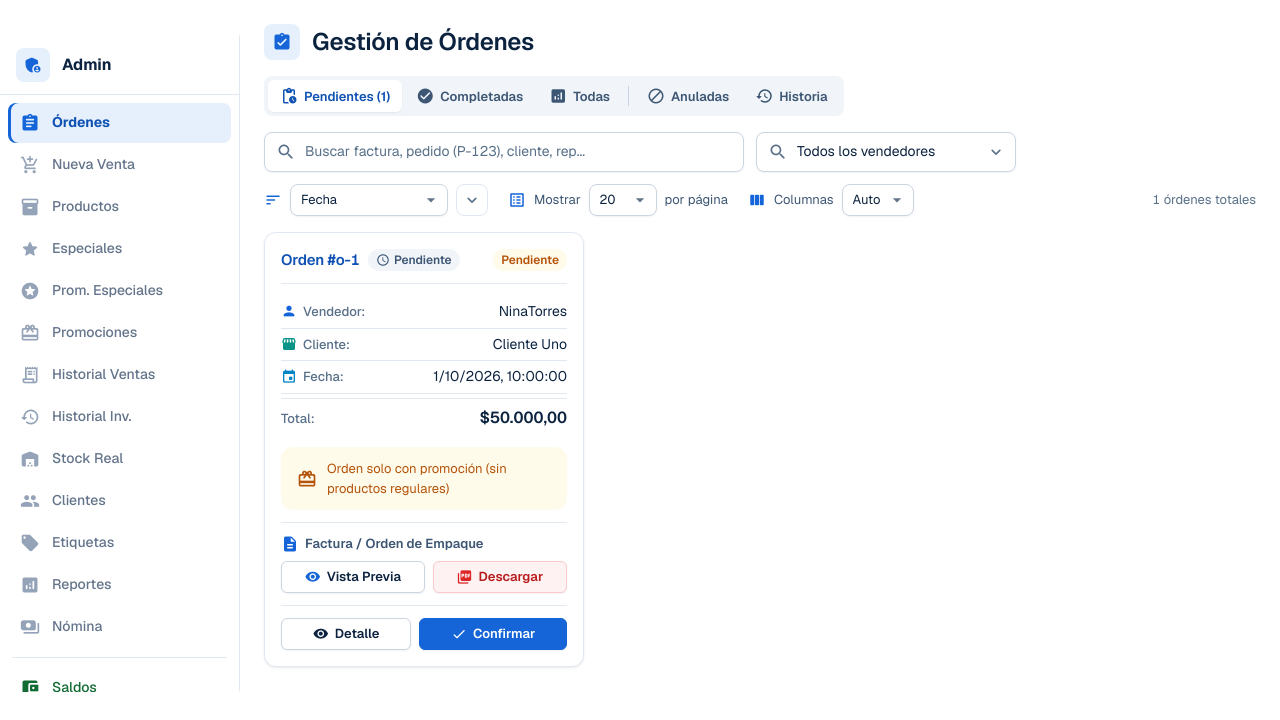
Test: filtro de vendedor de órdenes: se escribe, se elige y las órdenes se piden de esa vendedora
Check: the button "Detalle" is shown, box [281,618,411,650]
Type "yic" into the dropdown named "Filtrar por vendedor" at (886, 152), box [756,132,1016,172]
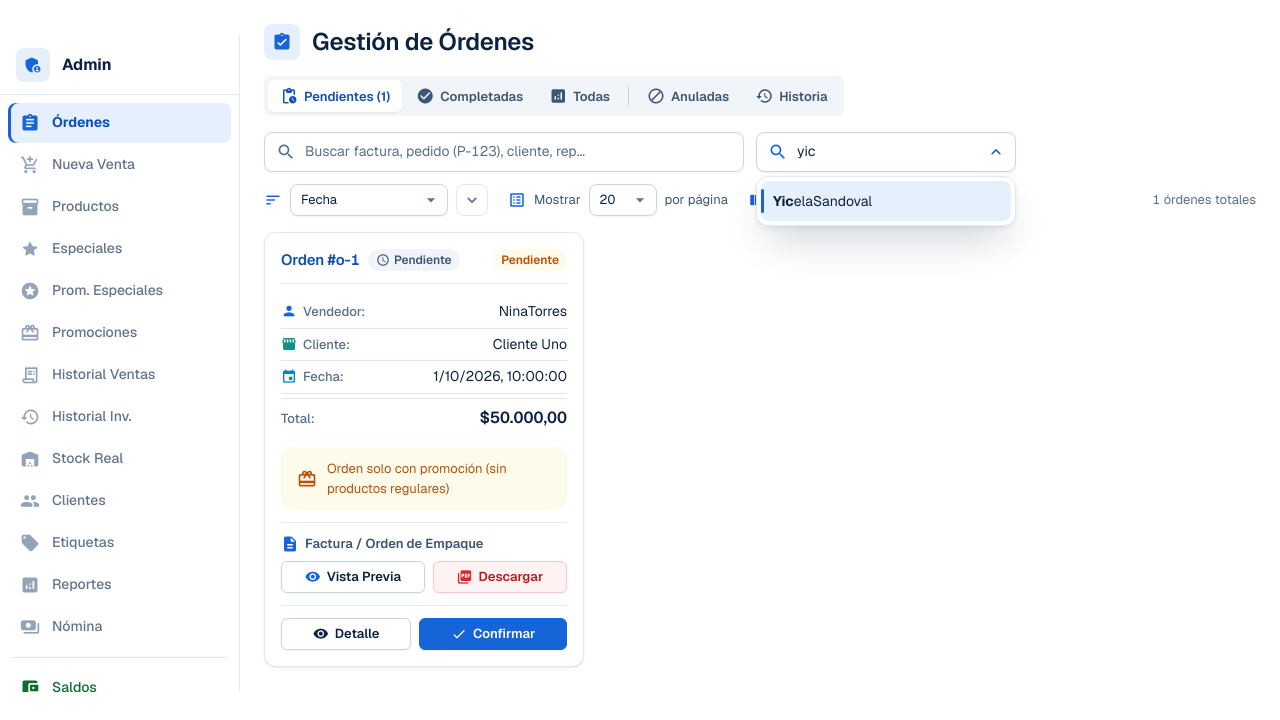
Check: the options read "YicelaSandoval", in this order
Click the option "YicelaSandoval" at (886, 201), box [761,181,1011,221]
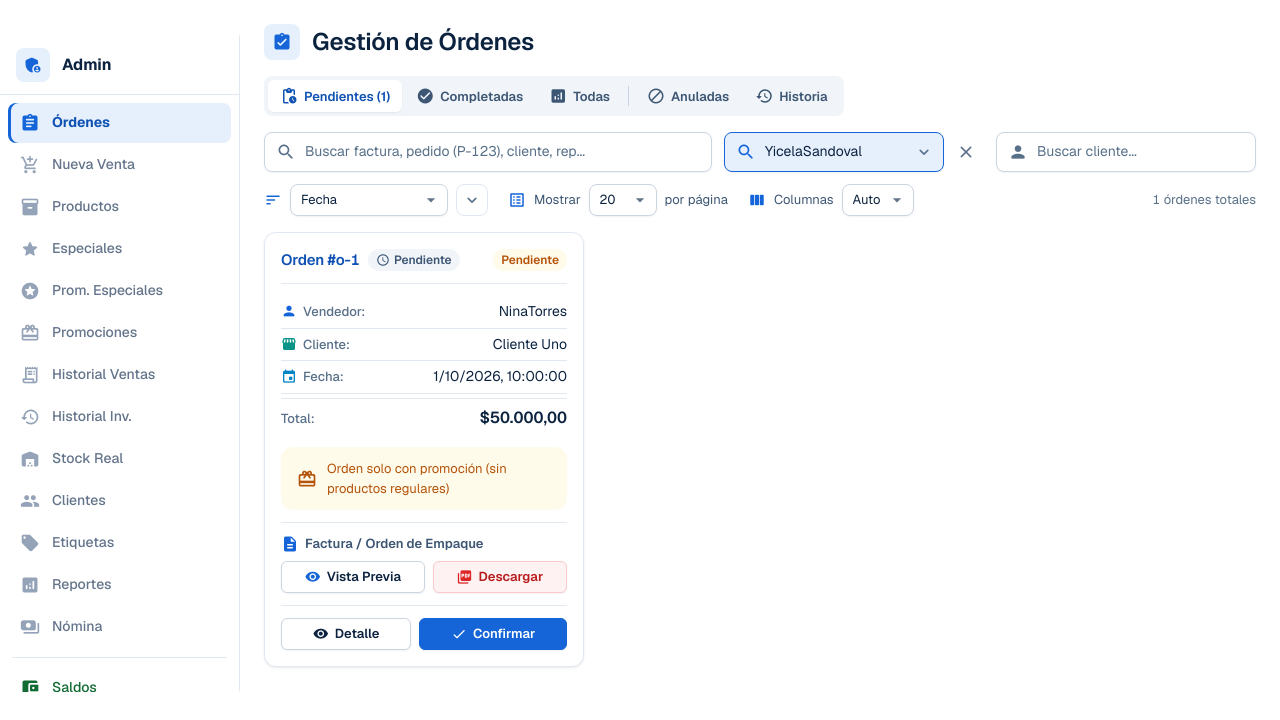
Check: the button "Detalle" is shown, box [281,618,411,650]
Check: the dropdown named "Filtrar por vendedor" holds "YicelaSandoval"
Replace the text in the dropdown named "Filtrar por vendedor" with "todos" at (834, 152), box [724,132,944,172]
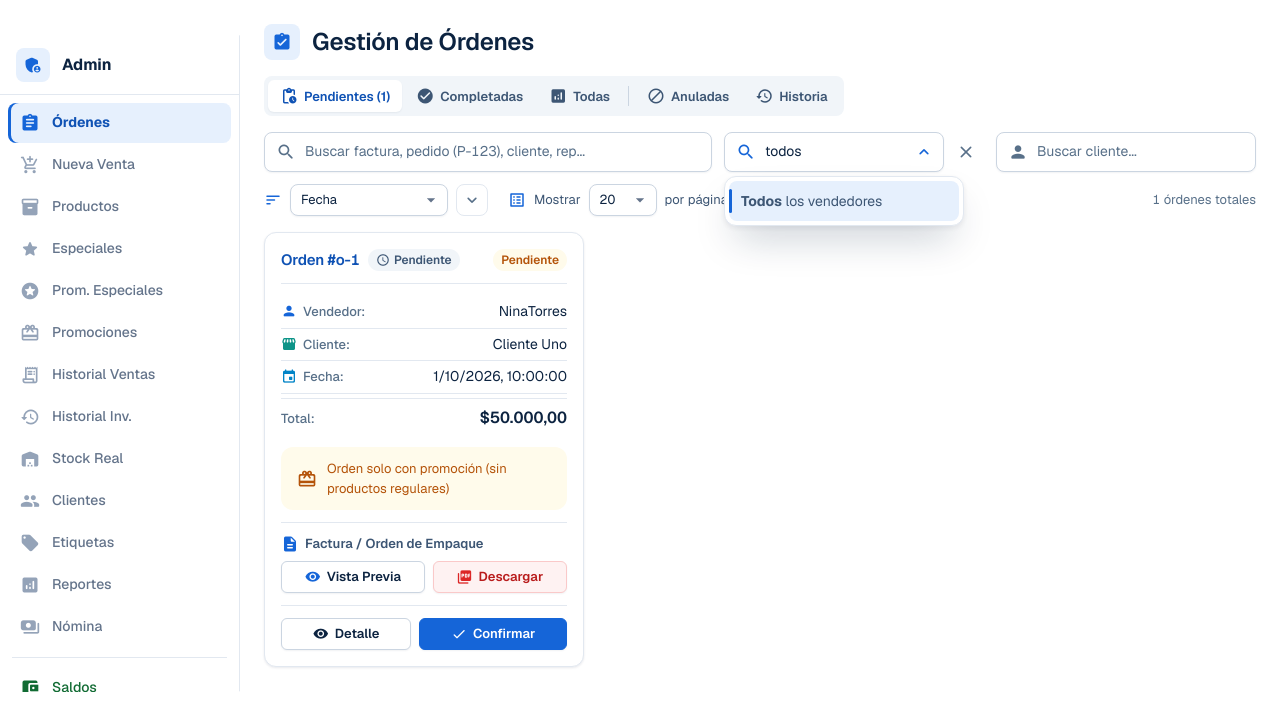
Click the option "Todos los vendedores" at (844, 201), box [729,181,959,221]
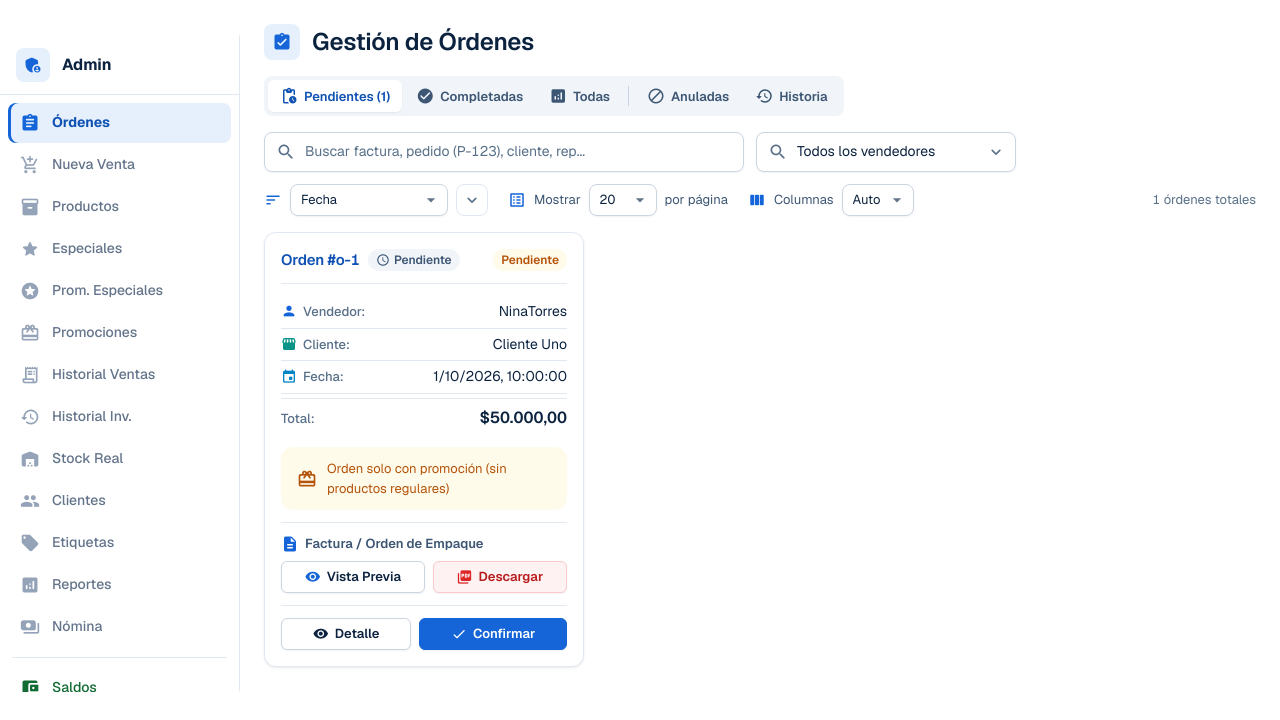
Check: the button "Detalle" is shown, box [281,618,411,650]
Check: the dropdown named "Filtrar por vendedor" holds "Todos los vendedores", box [756,132,1016,172]
